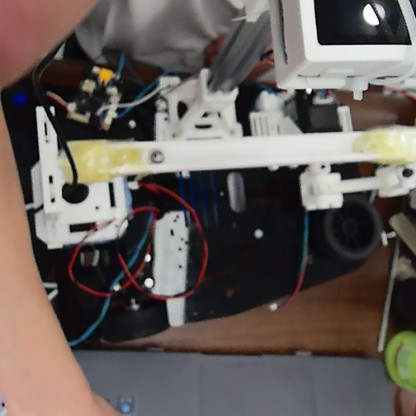ironball: (145, 145, 167, 166)
